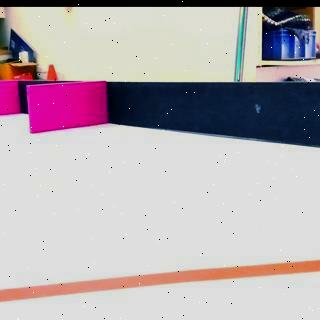xparking: (27, 84, 107, 125), (0, 82, 16, 113)
